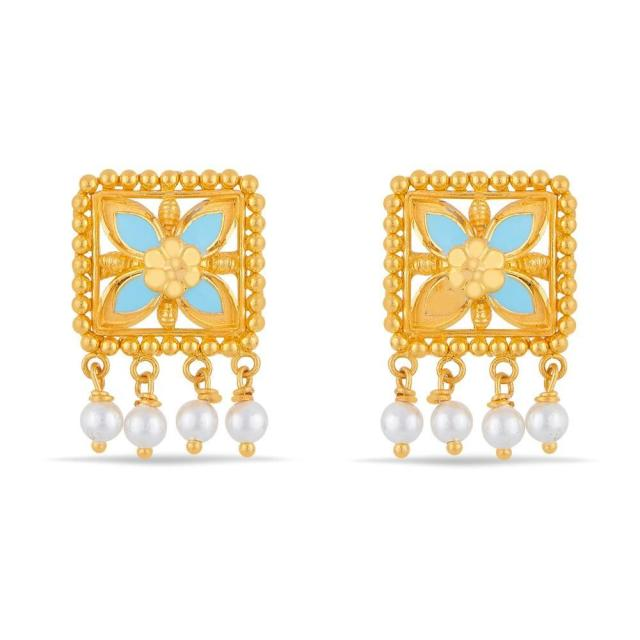missing gem: (425, 274, 469, 316)
